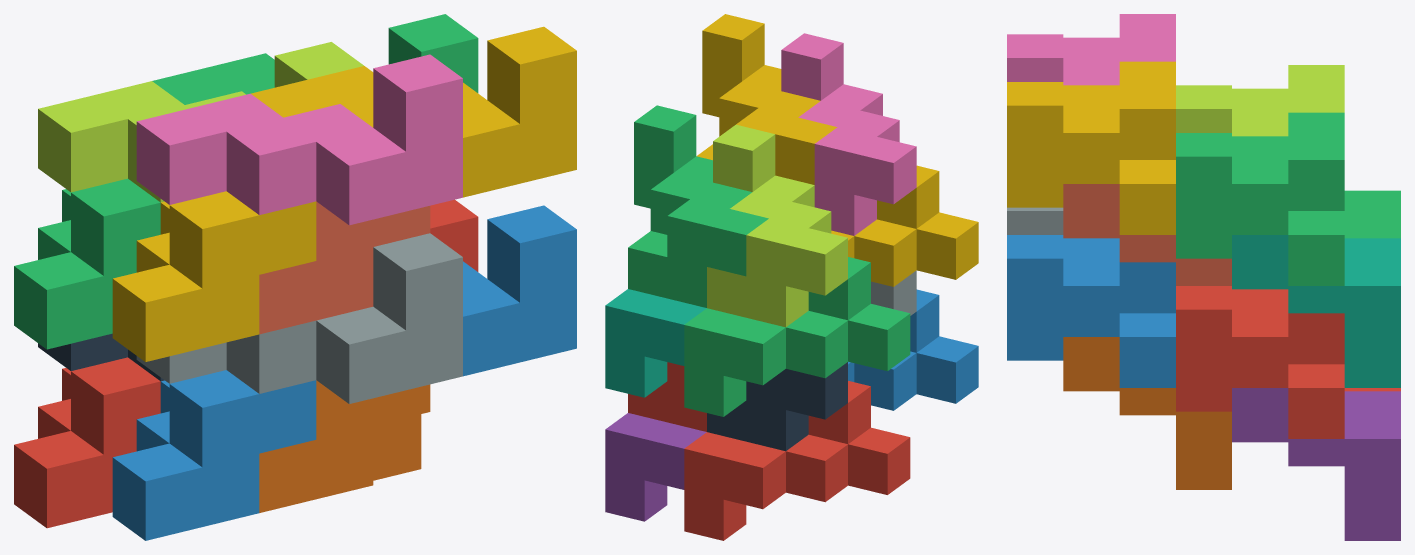
File: tiling.obj
3 renders of one model, left to right at view 1: azimuth 30°, elevation 25°; view 2: azimuth 150°, elevation 25°; view 3: azimuth 270°, elevation 25°, orthographic. The views are drawn at different scales.
Parts seen in each view (by area): view 1: copy_2_domain_4, copy_2_domain_2, copy_1_domain_2, copy_1_domain_4, copy_2_domain_8, copy_1_domain_1, copy_1_domain_3, copy_2_domain_6, copy_1_domain_6, copy_2_domain_3, copy_1_domain_8, copy_2_domain_7 (+2 smaller); view 2: copy_1_domain_1, copy_1_domain_3, copy_2_domain_7, copy_2_domain_3, copy_2_domain_4, copy_2_domain_8, copy_1_domain_4, copy_1_domain_5, copy_1_domain_7, copy_1_domain_2, copy_2_domain_1, copy_2_domain_5 (+1 smaller); view 3: copy_2_domain_8, copy_2_domain_7, copy_2_domain_6, copy_2_domain_5, copy_1_domain_5, copy_1_domain_7, copy_1_domain_6, copy_2_domain_4, copy_2_domain_3, copy_1_domain_8, copy_1_domain_3, copy_2_domain_2.
Boxes of the visible parts, x1,y1,x2,y2 form: copy_2_domain_4: [136, 54, 462, 225]; copy_2_domain_2: [136, 233, 462, 403]; copy_1_domain_2: [112, 370, 316, 540]; copy_1_domain_4: [112, 191, 316, 361]; copy_2_domain_8: [251, 26, 576, 197]; copy_1_domain_1: [14, 357, 160, 528]; copy_1_domain_3: [14, 178, 160, 349]; copy_2_domain_6: [463, 205, 576, 376]; copy_1_domain_6: [259, 380, 430, 512]; copy_2_domain_3: [38, 42, 363, 202]; copy_1_domain_8: [259, 201, 430, 334]; copy_2_domain_7: [152, 14, 478, 104]; copy_1_domain_1: [684, 381, 910, 540]; copy_1_domain_3: [684, 257, 910, 416]; copy_2_domain_7: [628, 105, 768, 307]; copy_2_domain_3: [707, 124, 847, 327]; copy_2_domain_4: [781, 33, 916, 235]; copy_2_domain_8: [697, 14, 837, 184]; copy_1_domain_4: [831, 165, 978, 286]; copy_1_domain_5: [605, 413, 706, 521]; copy_1_domain_7: [605, 289, 706, 397]; copy_1_domain_2: [848, 289, 978, 410]; copy_2_domain_1: [707, 362, 847, 451]; copy_2_domain_5: [628, 362, 706, 431]; copy_2_domain_8: [1007, 61, 1175, 234]; copy_2_domain_7: [1176, 112, 1344, 285]; copy_2_domain_6: [1007, 235, 1175, 387]; copy_2_domain_5: [1176, 286, 1344, 438]; copy_1_domain_5: [1232, 388, 1400, 540]; copy_1_domain_7: [1232, 235, 1400, 387]; copy_1_domain_6: [1063, 337, 1231, 489]; copy_2_domain_4: [1007, 14, 1175, 85]; copy_2_domain_3: [1176, 65, 1344, 136]; copy_1_domain_8: [1063, 184, 1231, 285]; copy_1_domain_3: [1344, 190, 1400, 238]; copy_2_domain_2: [1007, 207, 1063, 234].
Size of the model in its own units: 7 by 9 by 7.
